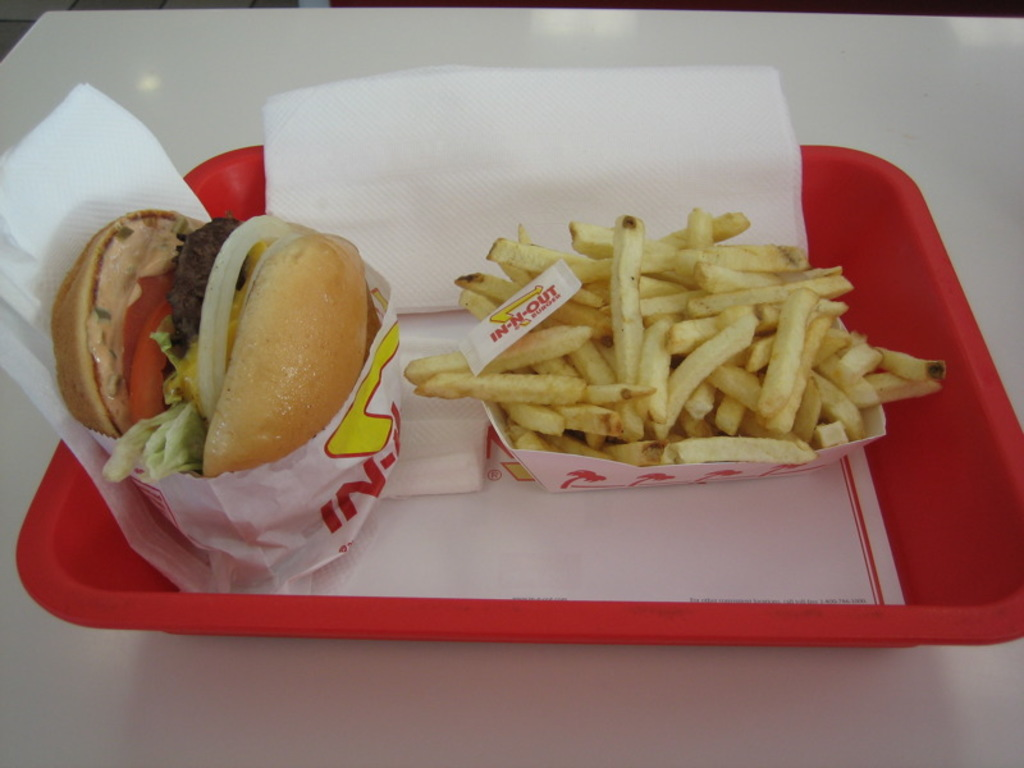French fries: (401, 199, 948, 473)
